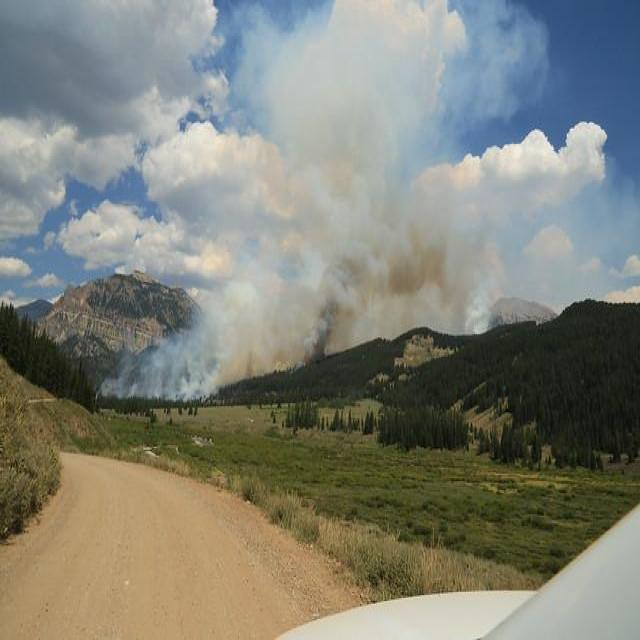smoke: (193, 107, 489, 351)
